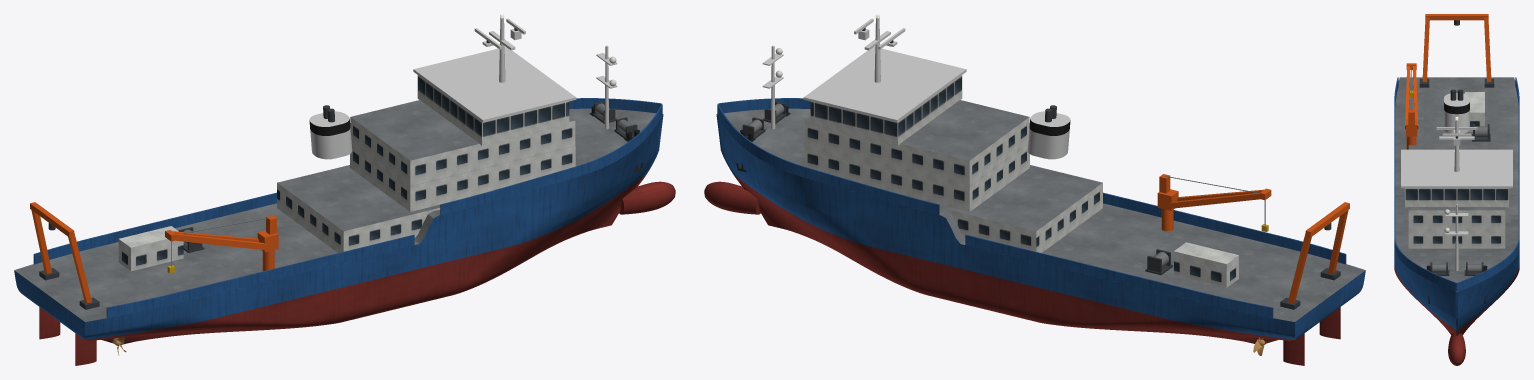
The model's file is research-vessel-c43c97fe.glb.
The picture shows the model from 3 angles, left to right: view 1: azimuth 30°, elevation 25°; view 2: azimuth 150°, elevation 25°; view 3: azimuth 270°, elevation 25°; orthographic projection. The views are drawn at different scales.
Visible parts, largest first — view 1: Hull, Upper decks, Wheelhouse, Bulwarks, Laboratories and accommodation, Container laboratory, Side crane, Funnel, Stern A-frame, Rudder, Instrument mast, Foredeck mooring gear (+1 smaller); view 2: Hull, Upper decks, Wheelhouse, Bulwarks, Laboratories and accommodation, Container laboratory, Side crane, Funnel, Stern A-frame, Rudder, Instrument mast, Foredeck mooring gear (+1 smaller); view 3: Hull, Wheelhouse, Upper decks, Bulwarks, Stern A-frame, Funnel, Side crane, Instrument mast, Container laboratory, Foredeck mooring gear, Foremast with instruments, Winches (+1 smaller).
Part boxes in pixels (box(x1,y1,x2,y2)): Hull: box(14, 108, 675, 344); Upper decks: box(350, 100, 575, 211); Wheelhouse: box(413, 46, 576, 145); Bulwarks: box(33, 98, 662, 318); Laboratories and accommodation: box(277, 165, 440, 252); Container laboratory: box(118, 226, 183, 271); Side crane: box(165, 215, 278, 273); Funnel: box(309, 105, 352, 159); Stern A-frame: box(30, 202, 99, 309); Rudder: box(39, 307, 96, 365); Instrument mast: box(474, 14, 525, 82); Foredeck mooring gear: box(589, 101, 639, 141); Hull: box(704, 108, 1365, 343); Upper decks: box(804, 100, 1029, 211); Wheelhouse: box(803, 46, 966, 145); Bulwarks: box(717, 98, 1346, 318); Laboratories and accommodation: box(939, 165, 1102, 252); Container laboratory: box(1174, 242, 1238, 287); Side crane: box(1157, 174, 1271, 231); Funnel: box(1027, 105, 1070, 159); Stern A-frame: box(1280, 202, 1349, 309); Rudder: box(1283, 307, 1340, 365); Instrument mast: box(854, 14, 905, 82); Foredeck mooring gear: box(740, 101, 790, 141); Hull: box(1394, 77, 1519, 365); Wheelhouse: box(1401, 149, 1512, 207); Upper decks: box(1408, 145, 1505, 248); Bulwarks: box(1394, 77, 1519, 291); Stern A-frame: box(1419, 14, 1494, 87); Funnel: box(1444, 89, 1469, 133); Side crane: box(1405, 63, 1418, 149); Instrument mast: box(1436, 117, 1477, 171); Container laboratory: box(1465, 92, 1484, 131); Foredeck mooring gear: box(1426, 262, 1487, 275); Foremast with instruments: box(1444, 204, 1468, 270); Winches: box(1472, 124, 1490, 141).
Size of the model in its own units: 71.85 by 25.92 by 15.5.
17 materials, 17 textured.
